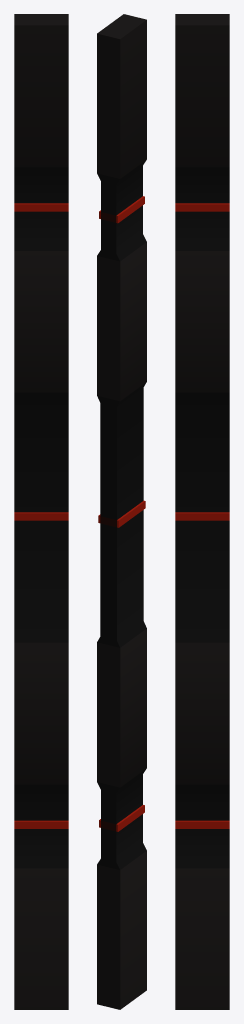
The picture shows the model from 3 angles, left to right: view 1: azimuth 90°, elevation 25°; view 2: azimuth 150°, elevation 25°; view 3: azimuth 270°, elevation 25°; orthographic projection.
Visible parts, largest first — view 1: 1; view 2: 1; view 3: 1.
Boxes of the visible parts, bbox=[...] form: 1: bbox=[14, 14, 68, 1009]; 1: bbox=[97, 14, 146, 1009]; 1: bbox=[175, 14, 229, 1009].
Bounding box in the file's own units: 100 × 4000 × 200.
